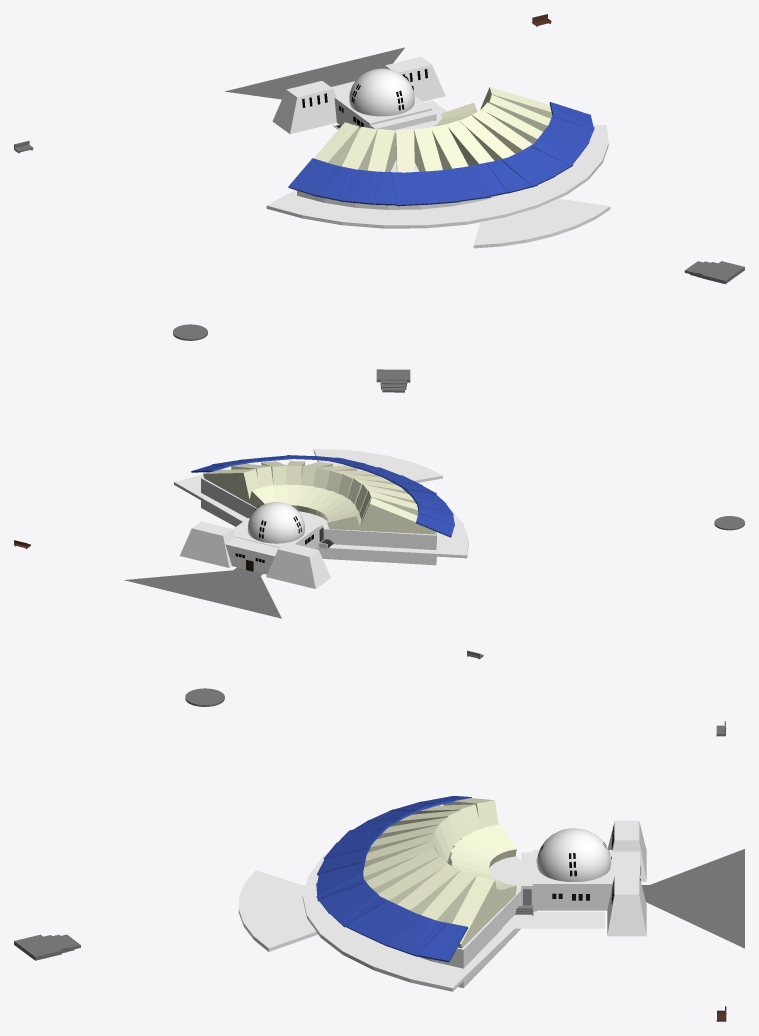
Rendered from nyasta_as_2.obj.
3 views of the same model, one above another, from view 1: azimuth 30°, elevation 25°; view 2: azimuth 150°, elevation 25°; view 3: azimuth 270°, elevation 25° (orthographic). The views are drawn at different scales.
Parts seen in each view (by area): view 1: Cube.047, Cube.033, Cylinder.001, Cylinder.002, Plane, Sphere, h_hlid, v_hlid, syningarsalur, innanhus, Cube, Cube.019; view 2: Cube.033, syningarsalur, Plane, Cube.047, Cylinder.001, h_hlid, Sphere, v_hlid, Cylinder.002, adaldyr, Cube, innanhus; view 3: Cube.033, Cube.047, Plane, Cylinder.001, Cylinder.002, Sphere, innanhus, syningarsalur, v_hlid, Plane.001, h_hlid, Cube (+2 smaller).
Boxes of the visible parts, x1=… form: Cube.047: x1=288, y1=102, x2=594, y2=206; Cube.033: x1=314, y1=87, x2=552, y2=172; Cylinder.001: x1=266, y1=125, x2=608, y2=228; Cylinder.002: x1=473, y1=198, x2=610, y2=248; Plane: x1=224, y1=47, x2=404, y2=99; Sphere: x1=349, y1=68, x2=414, y2=116; h_hlid: x1=272, y1=81, x2=336, y2=134; v_hlid: x1=384, y1=56, x2=445, y2=101; syningarsalur: x1=297, y1=120, x2=502, y2=209; innanhus: x1=334, y1=93, x2=431, y2=128; Cube: x1=684, y1=261, x2=744, y2=284; Cube.019: x1=370, y1=110, x2=436, y2=130; Cube.033: x1=203, y1=461, x2=435, y2=534; syningarsalur: x1=201, y1=477, x2=436, y2=565; Plane: x1=124, y1=567, x2=281, y2=618; Cube.047: x1=191, y1=455, x2=454, y2=537; Cylinder.001: x1=174, y1=469, x2=468, y2=558; h_hlid: x1=266, y1=542, x2=330, y2=588; Sphere: x1=247, y1=502, x2=304, y2=543; v_hlid: x1=180, y1=521, x2=235, y2=567; Cylinder.002: x1=313, y1=449, x2=442, y2=482; adaldyr: x1=225, y1=537, x2=279, y2=574; Cube: x1=376, y1=369, x2=410, y2=392; innanhus: x1=235, y1=523, x2=318, y2=549; Cube.033: x1=363, y1=798, x2=516, y2=948; Cube.047: x1=316, y1=796, x2=471, y2=962; Plane: x1=642, y1=849, x2=744, y2=948; Cylinder.001: x1=302, y1=853, x2=536, y2=991; Cylinder.002: x1=238, y1=870, x2=317, y2=951; Sphere: x1=537, y1=828, x2=610, y2=881; innanhus: x1=532, y1=850, x2=614, y2=910; syningarsalur: x1=418, y1=855, x2=521, y2=988; v_hlid: x1=607, y1=875, x2=646, y2=936; Plane.001: x1=502, y1=911, x2=604, y2=928; h_hlid: x1=607, y1=820, x2=646, y2=881; Cube: x1=14, y1=934, x2=80, y2=960.
Bounding box in the file's own units: 79.35 × 9.13 × 73.85.
